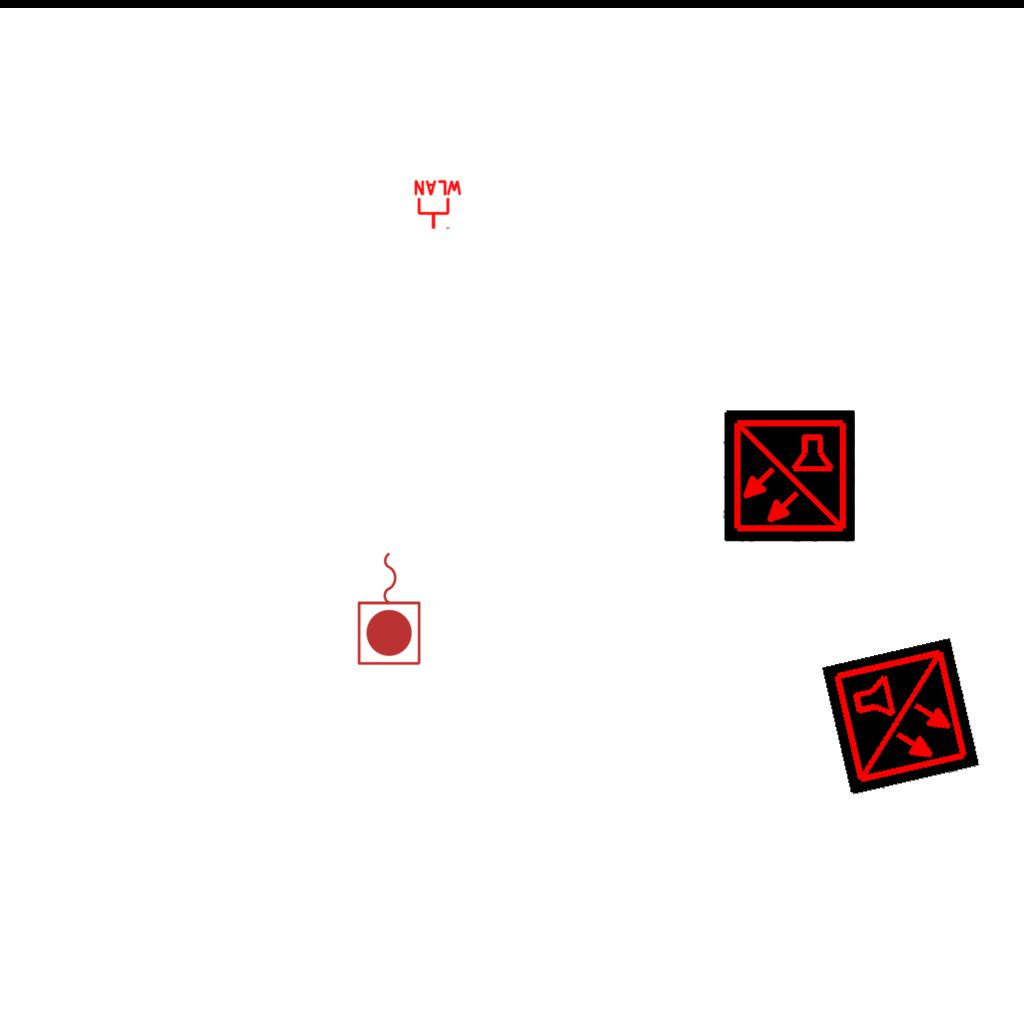OKW_Multisensormelder_(Kombination_optischer_Rauch-Kahlenmonoxid_Waerme-Melder): (821, 637, 981, 797), (723, 410, 855, 542)
WLAN: (412, 179, 464, 231)
Zugtaster: (354, 547, 426, 669)
